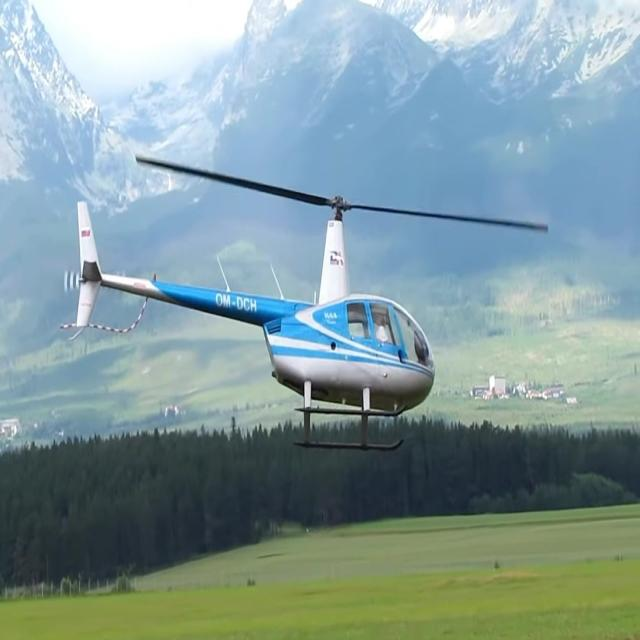CIV_HELO: (72, 191, 437, 453)
